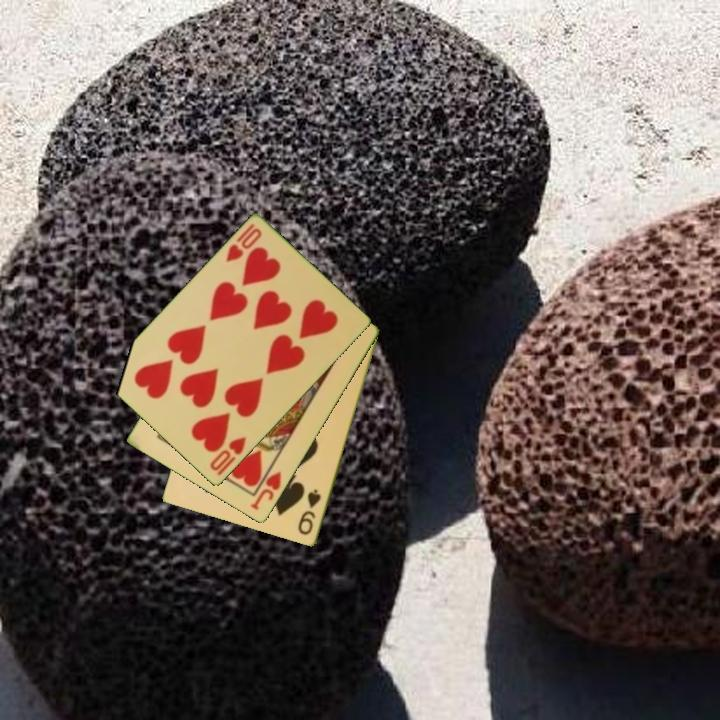10h: (206, 433, 249, 479), (222, 220, 265, 265)
9s: (295, 486, 324, 538)
Jh: (247, 468, 284, 513)
